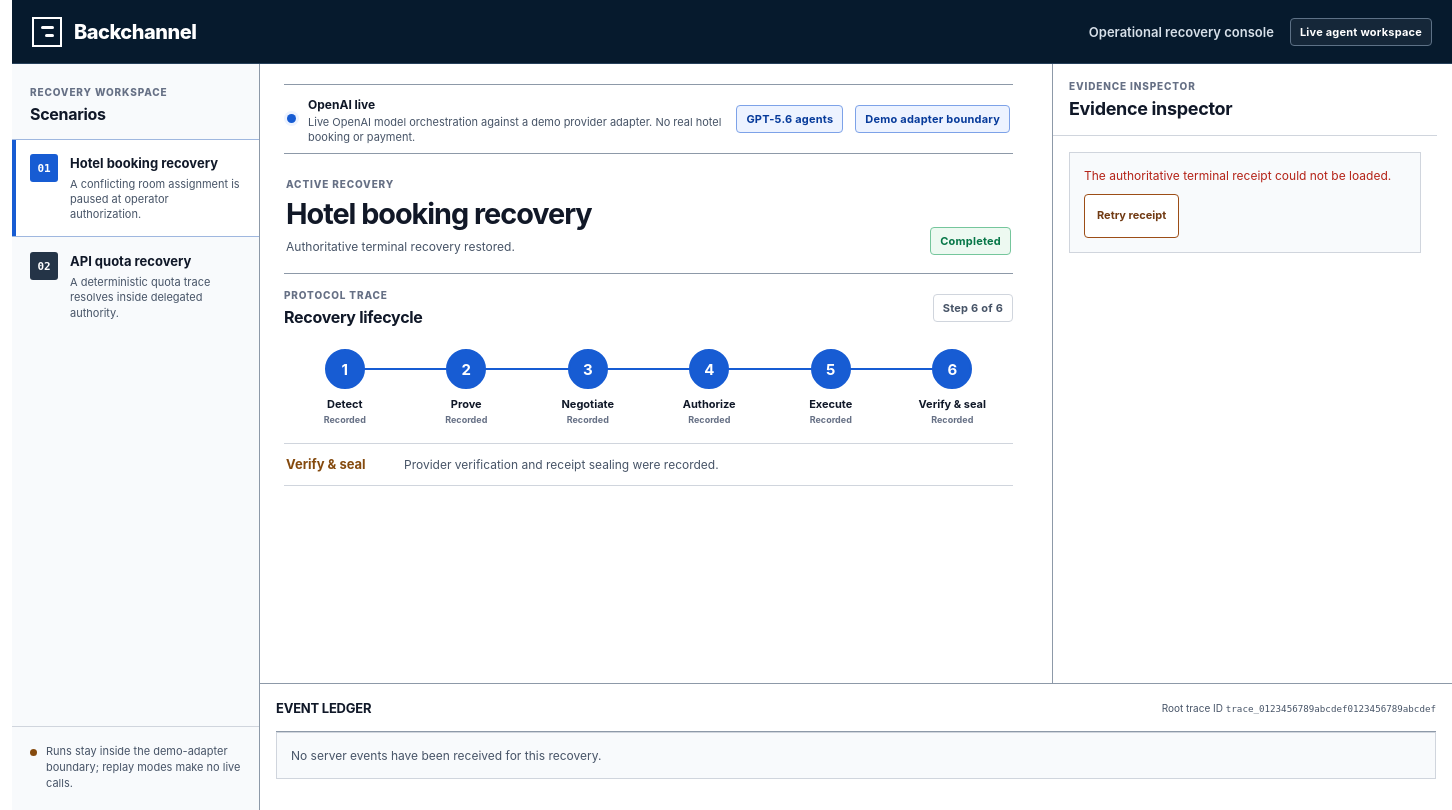
terminal receipt request deadline › ignores a late resolve from a timed-out attempt after a newer retry succeeds
Click the button "Retry receipt" at (1132, 216), box [1084,194,1179,238]
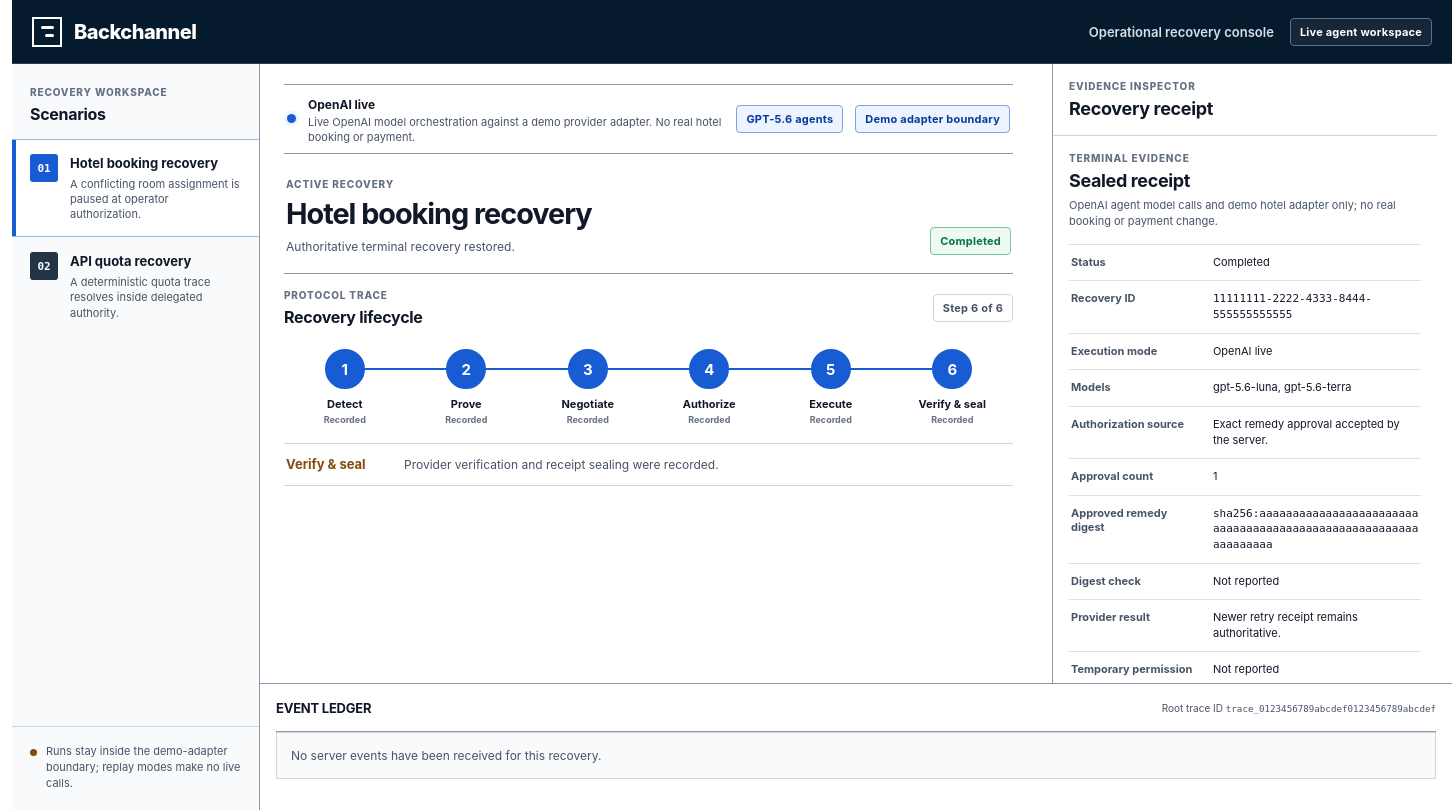
Now the text "Newer retry receipt remains authoritative." is shown, box [1213,610,1358,640]
Now the message "The authoritative terminal receipt could not be loaded." is gone
